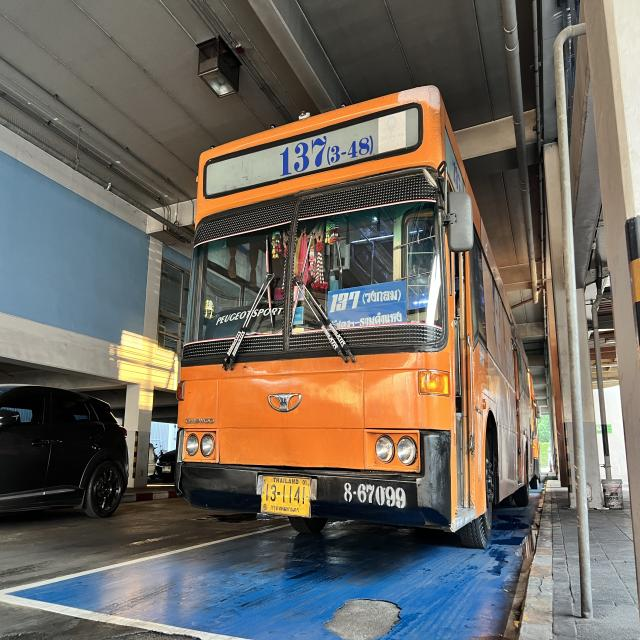BMTA-bus: (176, 86, 538, 550)
Bus-Line-Number: (275, 118, 375, 181)
Destination-Sign-Normal: (327, 277, 408, 330)
